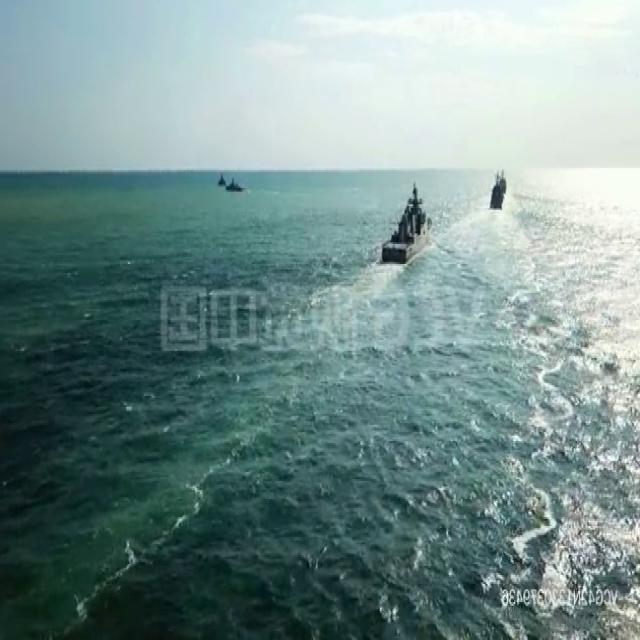navalvessels: (380, 183, 432, 261), (488, 175, 504, 214), (225, 174, 243, 192), (498, 167, 508, 195), (218, 172, 227, 191)
